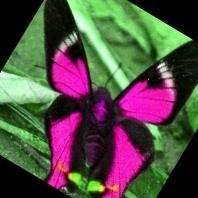butterfly: (43, 0, 198, 198)
